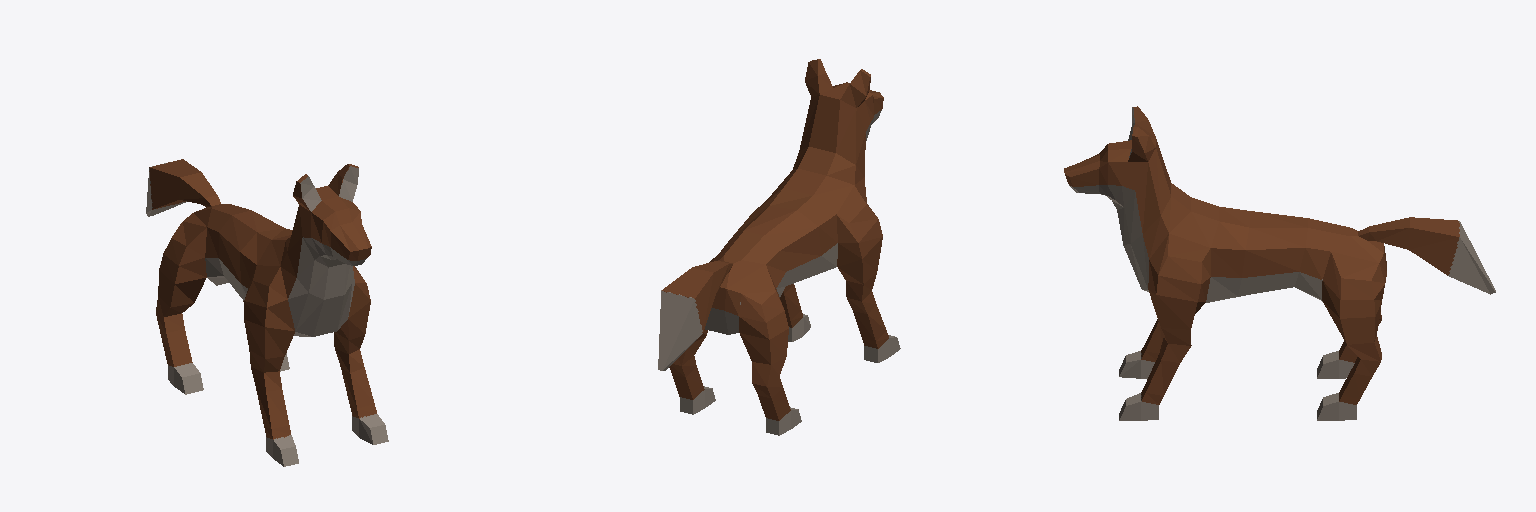
3 views of the same model, side by side, from view 1: azimuth 30°, elevation 25°; view 2: azimuth 150°, elevation 25°; view 3: azimuth 270°, elevation 25° (orthographic).
Parts seen in each view (by area): view 1: Mesh; view 2: Mesh; view 3: Mesh.
Boxes of the visible parts, x1,y1,x2,y2 form: Mesh: [146, 159, 388, 466]; Mesh: [658, 59, 900, 435]; Mesh: [1064, 106, 1495, 420].
Size of the model in its own units: 0.931 by 2.33 by 3.26.
1 materials, 1 textured.